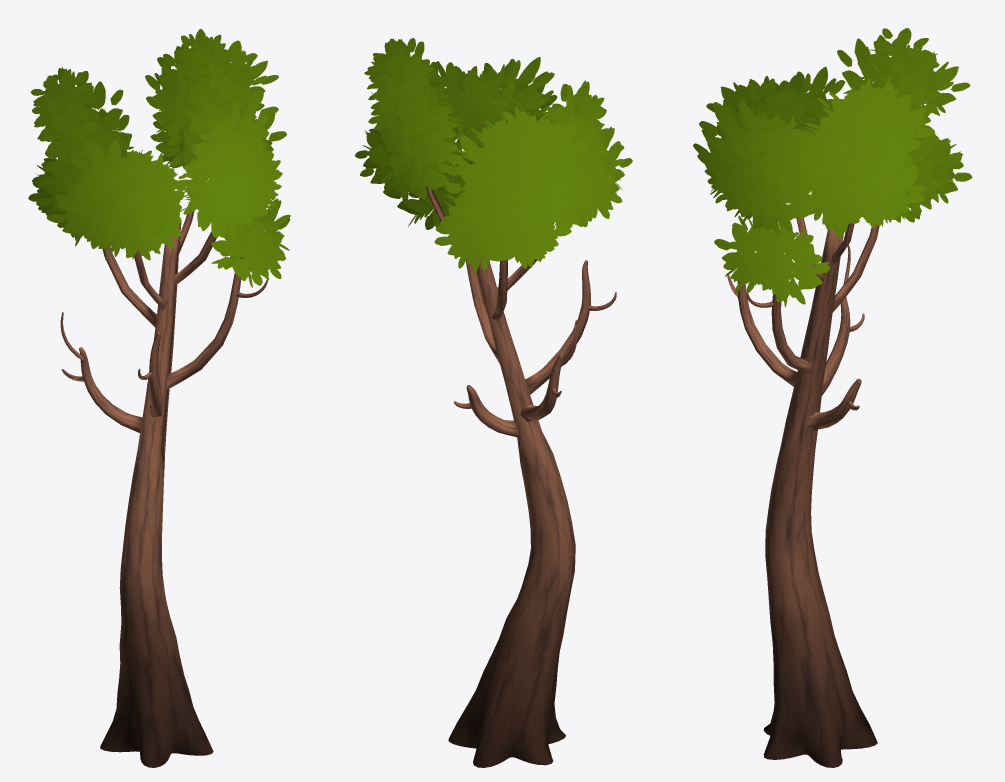
File: CommonTree_4.gltf
The picture shows the model from 3 angles, left to right: view 1: azimuth 30°, elevation 25°; view 2: azimuth 150°, elevation 25°; view 3: azimuth 270°, elevation 25°; orthographic projection. The views are drawn at different scales.
Visible parts, largest first — view 1: CommonTree_4; view 2: CommonTree_4; view 3: CommonTree_4.
Boxes of the visible parts, x1,y1,x2,y2 form: CommonTree_4: (28, 29, 290, 767); CommonTree_4: (355, 38, 632, 767); CommonTree_4: (693, 28, 972, 767).
Size of the model in its own units: 3.83 by 9.44 by 3.76.
Materials: 2 (2 with a texture image).
